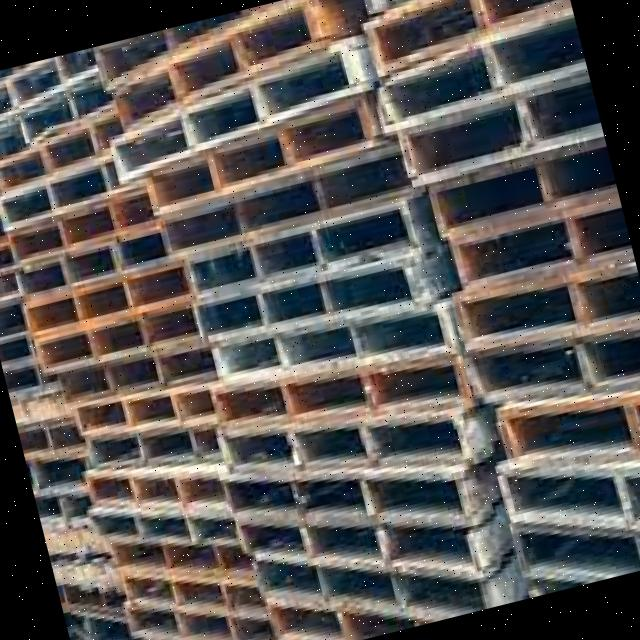Wooden-Pallets: (137, 89, 387, 215), (177, 198, 418, 296), (207, 352, 475, 440), (35, 299, 205, 380)
